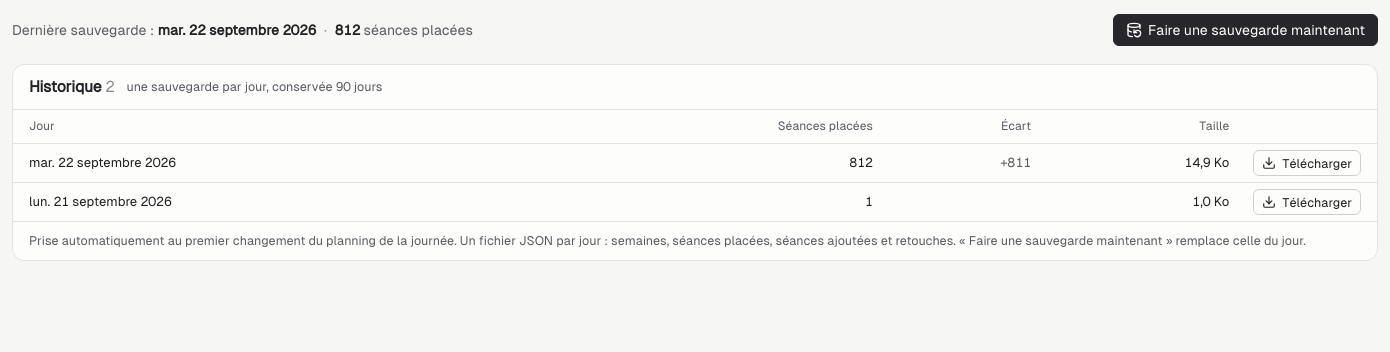
Test: SauvegardesView › affiche l'erreur sans perdre la liste déjà chargée quand la sauvegarde manuelle échoue
Expected: the row "mar. 22 septembre 2026 812 +811 14,9 Ko Télécharger" is shown, [13,144,1377,183]
Step 1. Click the button "Faire une sauvegarde maintenant" → (1246, 30), box [1113,14,1378,46]
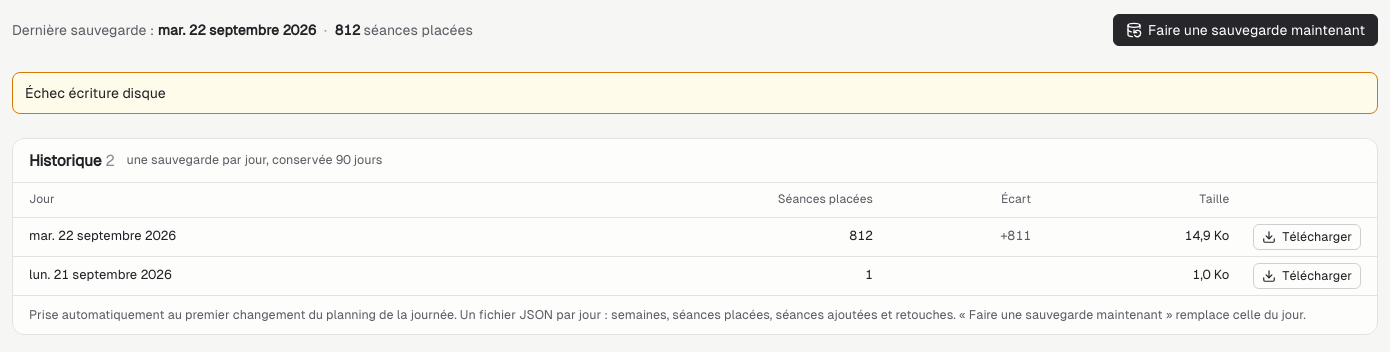
Expected: the row "mar. 22 septembre 2026 812 +811 14,9 Ko Télécharger" is shown, [13,217,1377,256]
Expected: the message reads "Échec écriture disque", [25,85,166,101]
